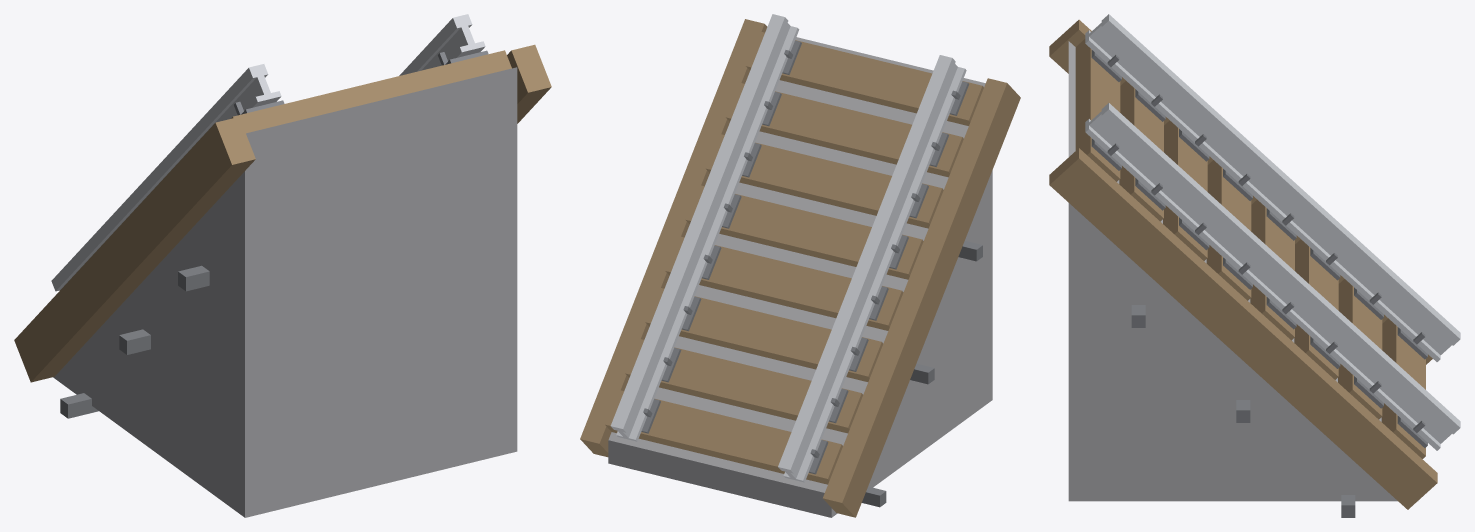
Rendered from rail_slope_up.glb.
3 views of the same model, side by side, from view 1: azimuth 30°, elevation 25°; view 2: azimuth 150°, elevation 25°; view 3: azimuth 270°, elevation 25° (orthographic). The views are drawn at different scales.
Visible parts, largest first — view 1: rail; view 2: rail; view 3: rail.
Part boxes in pixels (box(x1,y1,x2,y2)): rail: box(14, 14, 551, 517); rail: box(580, 14, 1020, 517); rail: box(1049, 14, 1460, 517).
Bounding box in the file's own units: 0.94 × 1.22 × 1.18.
